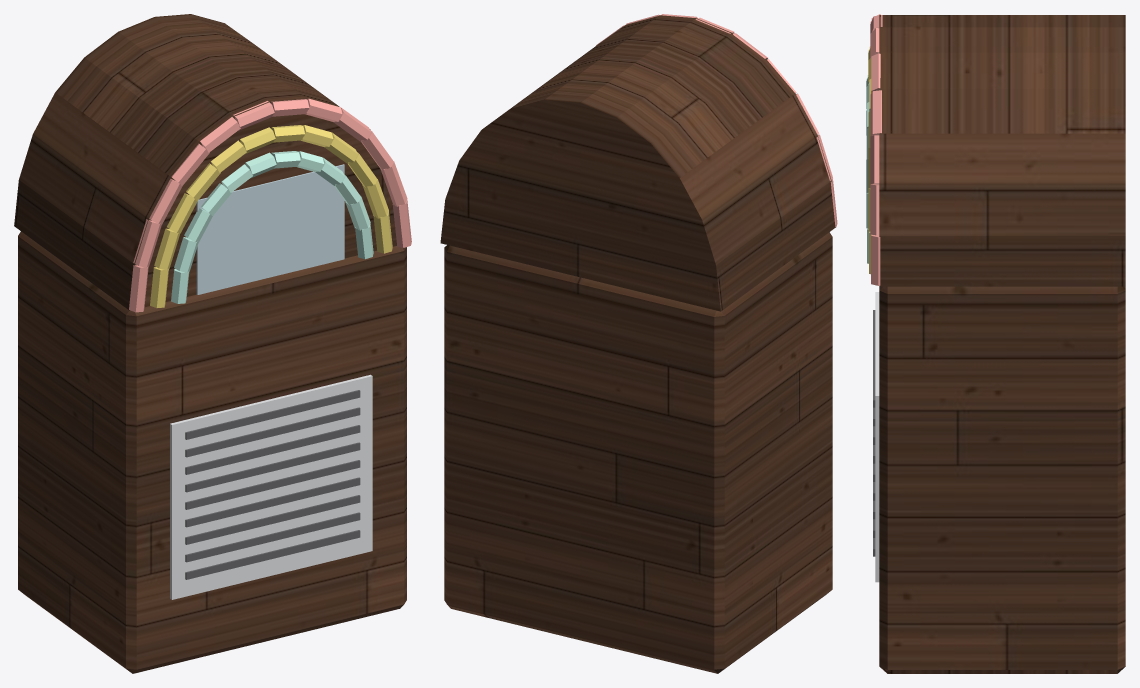
The model's file is jukebox.glb.
The picture shows the model from 3 angles, left to right: view 1: azimuth 30°, elevation 25°; view 2: azimuth 150°, elevation 25°; view 3: azimuth 270°, elevation 25°; orthographic projection. The views are drawn at different scales.
Visible parts, largest first — view 1: jukebox_dkwood, jukebox_chrome, jukebox_dark, jukebox_glass, jukebox_neon_r, jukebox_yellowp, jukebox_neon; view 2: jukebox_dkwood, jukebox_neon_r; view 3: jukebox_dkwood, jukebox_neon_r, jukebox_chrome, jukebox_dark, jukebox_yellowp, jukebox_neon.
Boxes of the visible parts, <box> form: jukebox_dkwood: <box>14,14,406,673</box>; jukebox_chrome: <box>170,374,372,599</box>; jukebox_dark: <box>185,390,360,579</box>; jukebox_glass: <box>196,164,344,294</box>; jukebox_neon_r: <box>129,98,411,312</box>; jukebox_yellowp: <box>150,125,392,307</box>; jukebox_neon: <box>171,151,373,303</box>; jukebox_dkwood: <box>440,15,835,673</box>; jukebox_neon_r: <box>596,14,837,226</box>; jukebox_dkwood: <box>879,15,1125,673</box>; jukebox_neon_r: <box>870,14,882,285</box>; jukebox_chrome: <box>875,292,879,582</box>; jukebox_dark: <box>873,310,875,556</box>; jukebox_yellowp: <box>868,46,871,274</box>; jukebox_neon: <box>866,75,869,263</box>.
Bounding box in the file's own units: 0.8435 × 1.55 × 0.632.
8 materials, 1 textured.
